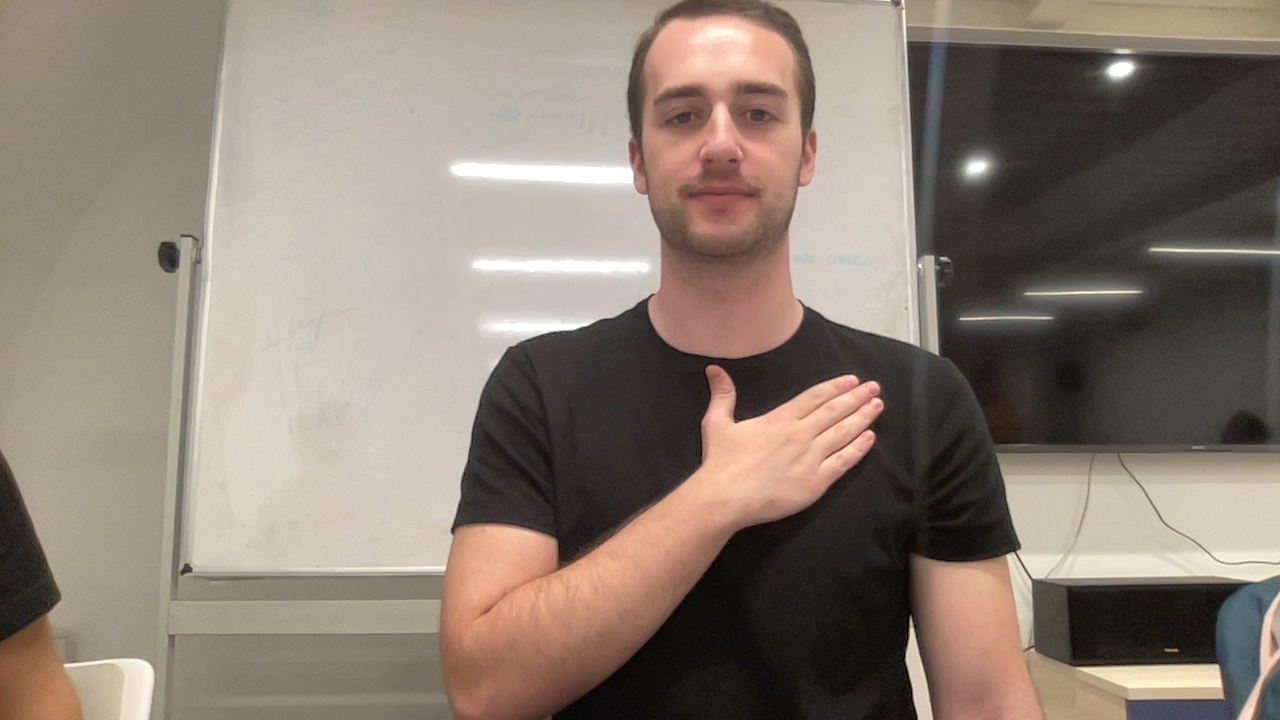Please: (432, 359, 890, 720)
